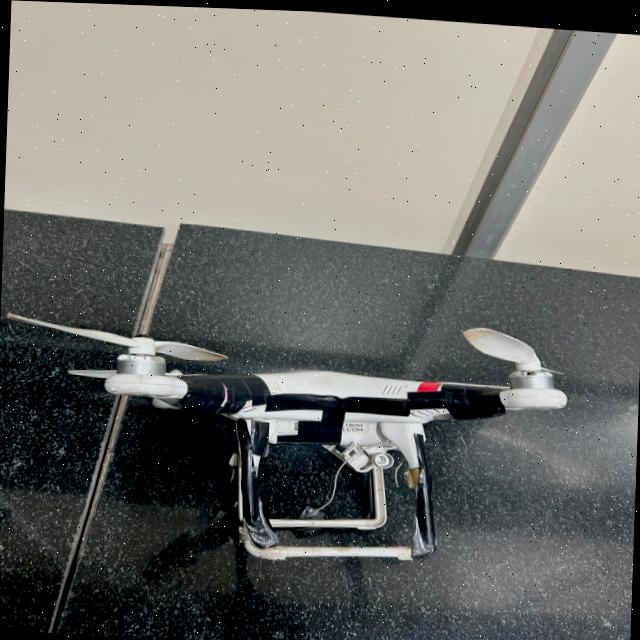drone: (0, 279, 613, 599)
